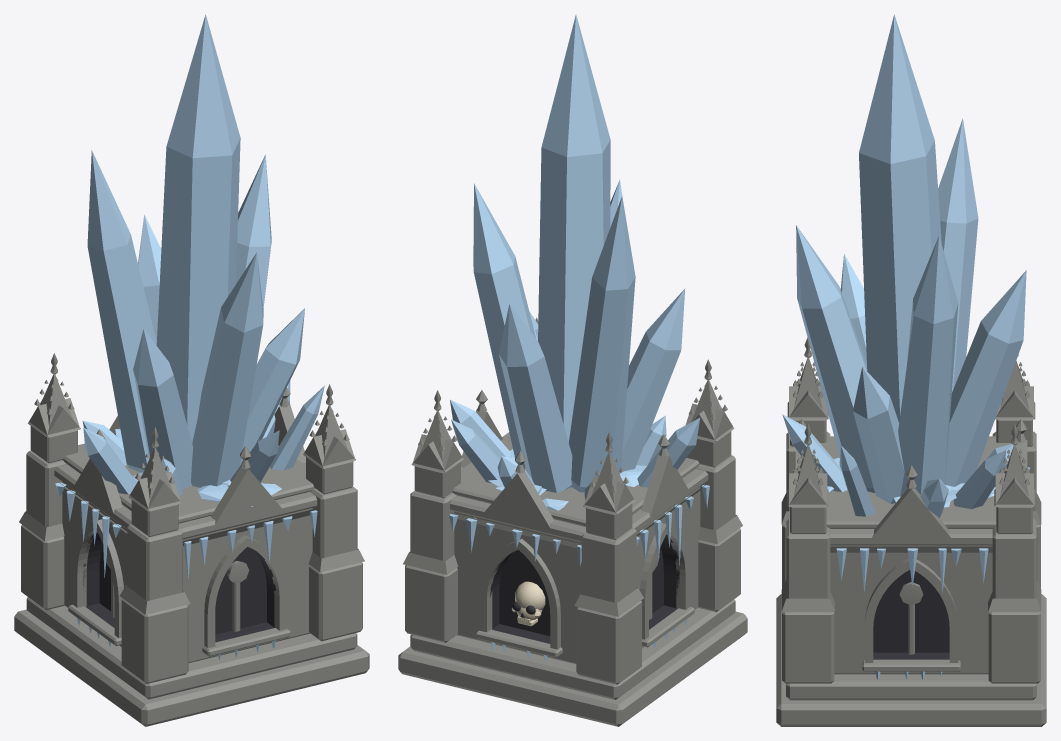
The model's file is tower_frost_3.glb.
3 views of the same model, side by side, from view 1: azimuth 30°, elevation 25°; view 2: azimuth 150°, elevation 25°; view 3: azimuth 270°, elevation 25° (orthographic). The views are drawn at different scales.
Visible parts, largest first — view 1: tower; view 2: tower; view 3: tower.
Part boxes in pixels (x1=…): tower: x1=14, y1=14, x2=369, y2=726; tower: x1=398, y1=14, x2=747, y2=726; tower: x1=776, y1=14, x2=1046, y2=726.
Bounding box in the file's own units: 1.74 × 4.59 × 1.7.
